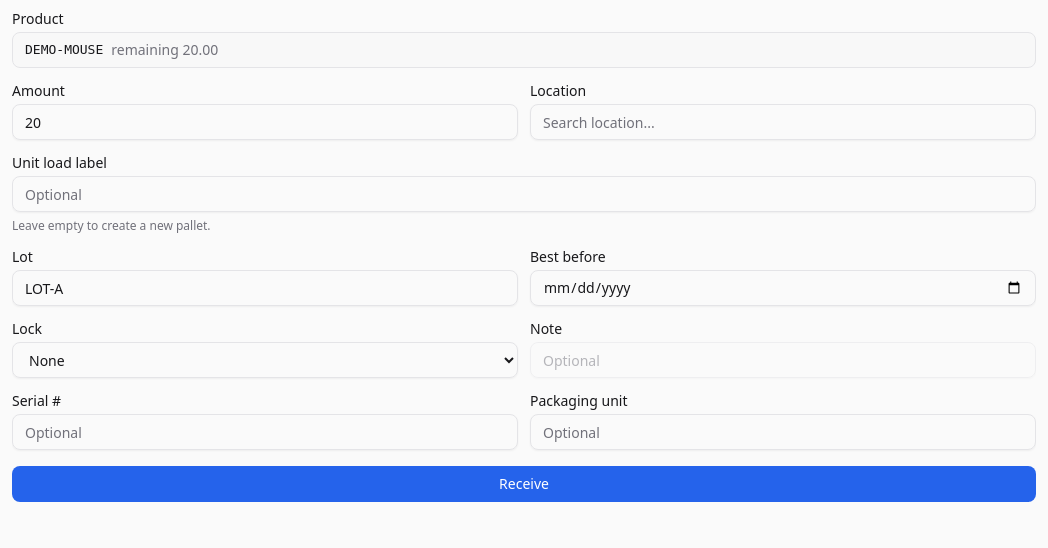
Test: ReceiveForm › blocks submit and shows an error when no location is picked
Click the button with test id "receive-submit" at coordinates (524, 484), box x1=12 y1=466 x2=1036 y2=502
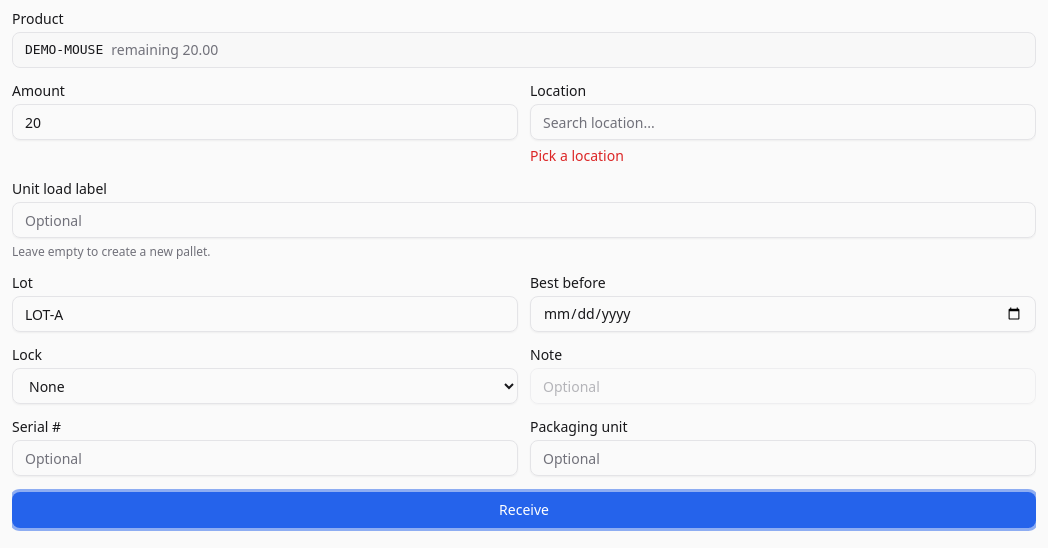
Check: the text "Pick a location" is shown, box x1=530 y1=146 x2=624 y2=165
